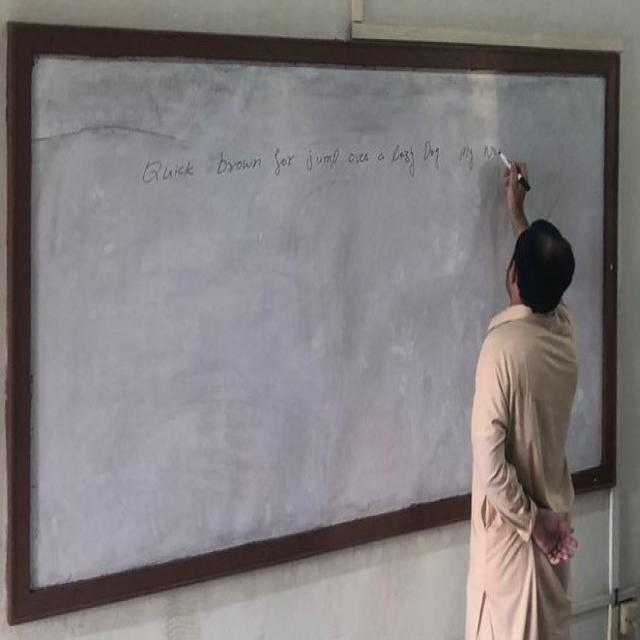Instructor: (467, 199, 580, 614)
White-board: (23, 37, 612, 606)
